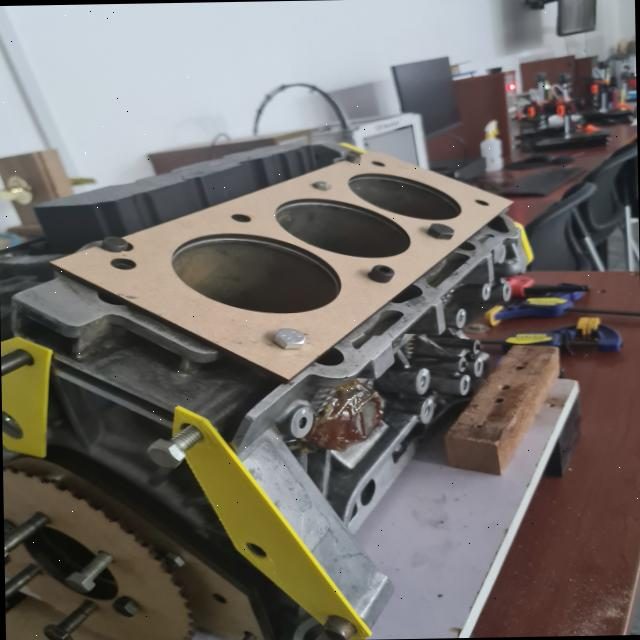tor_v1: (49, 150, 513, 379)
